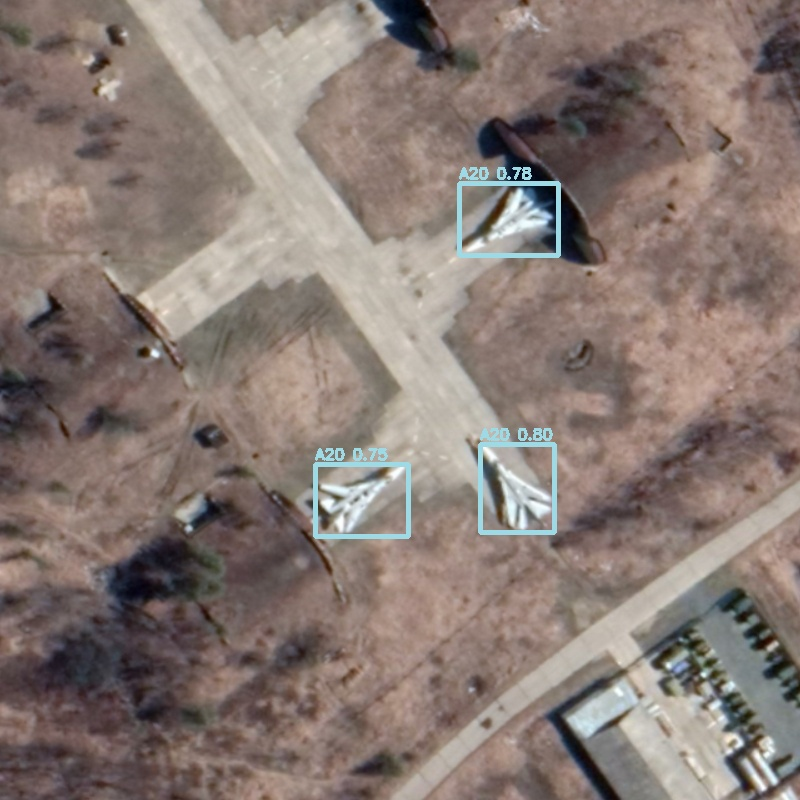A20: (459, 183, 558, 255), (315, 464, 408, 536), (480, 444, 554, 532)
